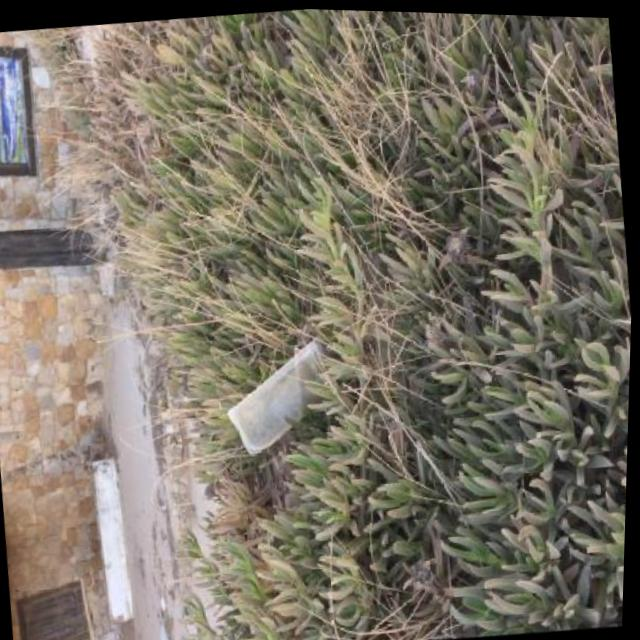plastic: (218, 331, 344, 462)
